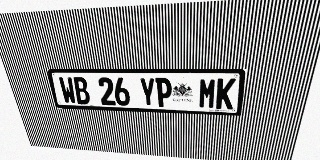2: (97, 77, 116, 105)
6: (113, 77, 131, 106)
B: (72, 77, 91, 104)
K: (216, 78, 236, 109)
M: (198, 78, 217, 109)
P: (155, 78, 172, 107)
W: (58, 77, 77, 104)
Y: (139, 78, 156, 107)
